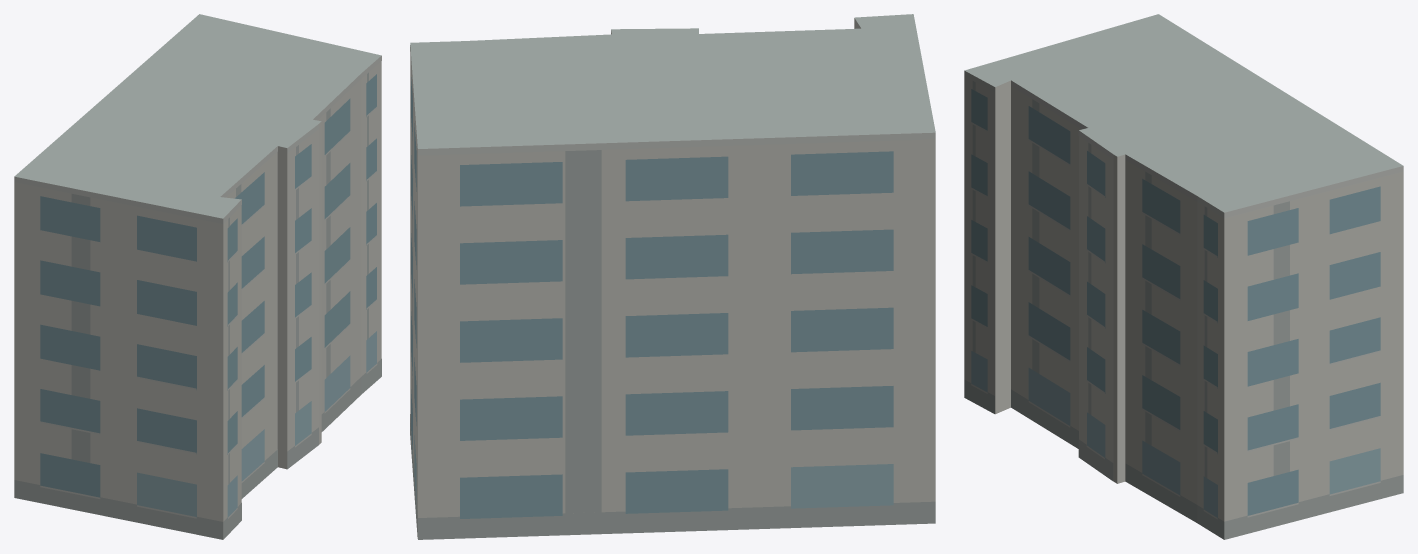
Rendered from survey-upis-32887921.glb.
The picture shows the model from 3 angles, left to right: view 1: azimuth 30°, elevation 25°; view 2: azimuth 150°, elevation 25°; view 3: azimuth 270°, elevation 25°; orthographic projection. The views are drawn at different scales.
Visible parts, largest first — view 1: survey-upis-32887921.tmp; view 2: survey-upis-32887921.tmp; view 3: survey-upis-32887921.tmp.
Boxes of the visible parts, box(x1,y1,x2,y2) form: survey-upis-32887921.tmp: box(14, 14, 381, 539); survey-upis-32887921.tmp: box(410, 14, 935, 539); survey-upis-32887921.tmp: box(964, 14, 1403, 539).
Bounding box in the file's own units: 18.51 × 14.2 × 17.29.
